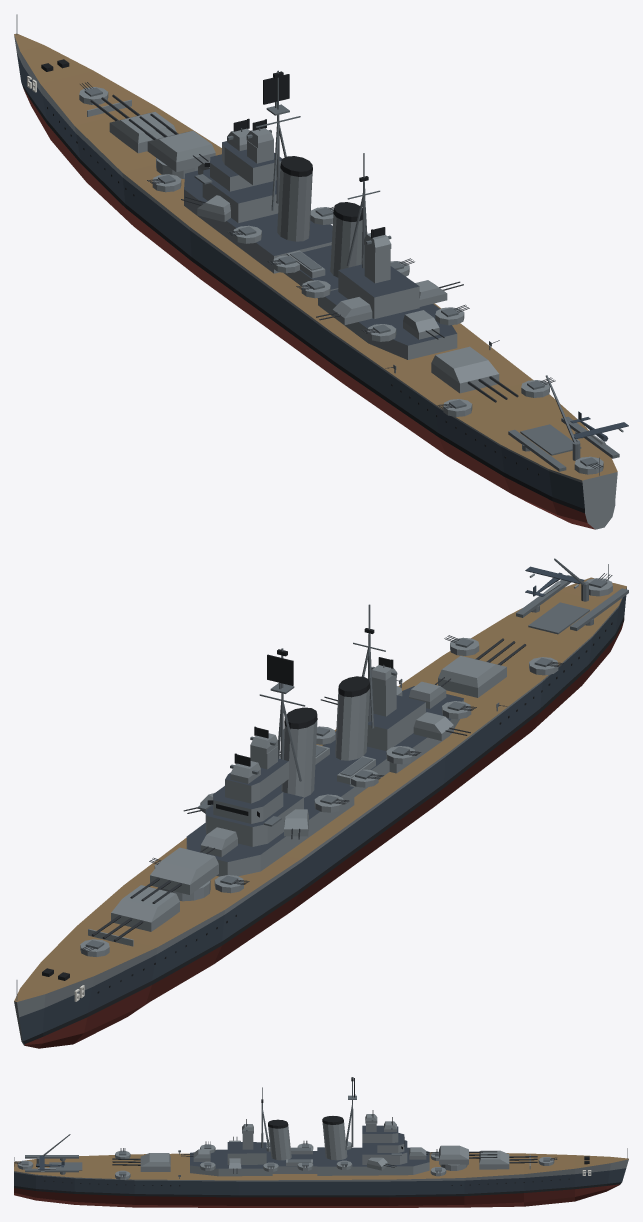
Rendered from baltimore.glb.
3 renders of one model, top to bottom at view 1: azimuth 30°, elevation 25°; view 2: azimuth 150°, elevation 25°; view 3: azimuth 270°, elevation 25°, orthographic. The views are drawn at different scales.
Parts seen in each view (by area): view 1: Hull, Fwd 01, Aft 01, Aft 02, Fwd funnel, Turret 3 house, Bridge 02, Turret 2 house, Aft funnel, Turret 1 house, Bridge tower, Hangar hatch (+5 smaller); view 2: Hull, Fwd 01, Turret 2 house, Aft funnel, Turret 1 house, Fwd funnel, Turret 3 house, Bridge 02, Aft 02, Bridge tower, Bridge 03, Midships 01 (+6 smaller); view 3: Hull, Fwd 01, Aft 01, Fwd funnel, Aft 02, Aft funnel, Bridge 02, Midships 01, Turret 2 house, Turret 3 house, Turret 1 house, Bridge tower (+6 smaller).
Boxes of the visible parts, bbox=[...] form: Hull: bbox=[14, 33, 617, 529]; Fwd 01: bbox=[184, 170, 332, 273]; Aft 01: bbox=[318, 289, 457, 359]; Aft 02: bbox=[338, 264, 419, 318]; Fwd funnel: bbox=[277, 168, 312, 241]; Turret 3 house: bbox=[431, 346, 499, 393]; Bridge 02: bbox=[202, 169, 278, 222]; Turret 2 house: bbox=[147, 130, 215, 172]; Aft funnel: bbox=[330, 214, 362, 277]; Turret 1 house: bbox=[109, 112, 176, 153]; Bridge tower: bbox=[222, 141, 282, 185]; Hangar hatch: bbox=[520, 424, 581, 455]; Hull: bbox=[14, 577, 626, 1048]; Fwd 01: bbox=[186, 777, 354, 876]; Turret 2 house: bbox=[150, 847, 218, 894]; Aft funnel: bbox=[335, 689, 369, 760]; Turret 1 house: bbox=[111, 885, 179, 931]; Fwd funnel: bbox=[281, 720, 317, 797]; Turret 3 house: bbox=[438, 656, 506, 697]; Bridge 02: bbox=[205, 792, 303, 846]; Aft 02: bbox=[367, 695, 425, 750]; Bridge tower: bbox=[225, 758, 288, 803]; Bridge 03: bbox=[213, 786, 283, 823]; Midships 01: bbox=[314, 740, 389, 796]; Hull: bbox=[14, 1152, 628, 1207]; Fwd 01: bbox=[317, 1147, 429, 1175]; Aft 01: bbox=[190, 1149, 272, 1176]; Fwd funnel: bbox=[322, 1122, 347, 1160]; Aft 02: bbox=[227, 1142, 266, 1164]; Aft funnel: bbox=[268, 1126, 291, 1160]; Bridge 02: bbox=[362, 1140, 407, 1164]; Midships 01: bbox=[269, 1151, 317, 1173]; Turret 2 house: bbox=[439, 1145, 468, 1164]; Turret 3 house: bbox=[140, 1153, 170, 1171]; Turret 1 house: bbox=[479, 1150, 509, 1169]; Bridge tower: bbox=[362, 1125, 398, 1142].
Bounding box in the file's own units: 29.21 × 46.7 × 205.
